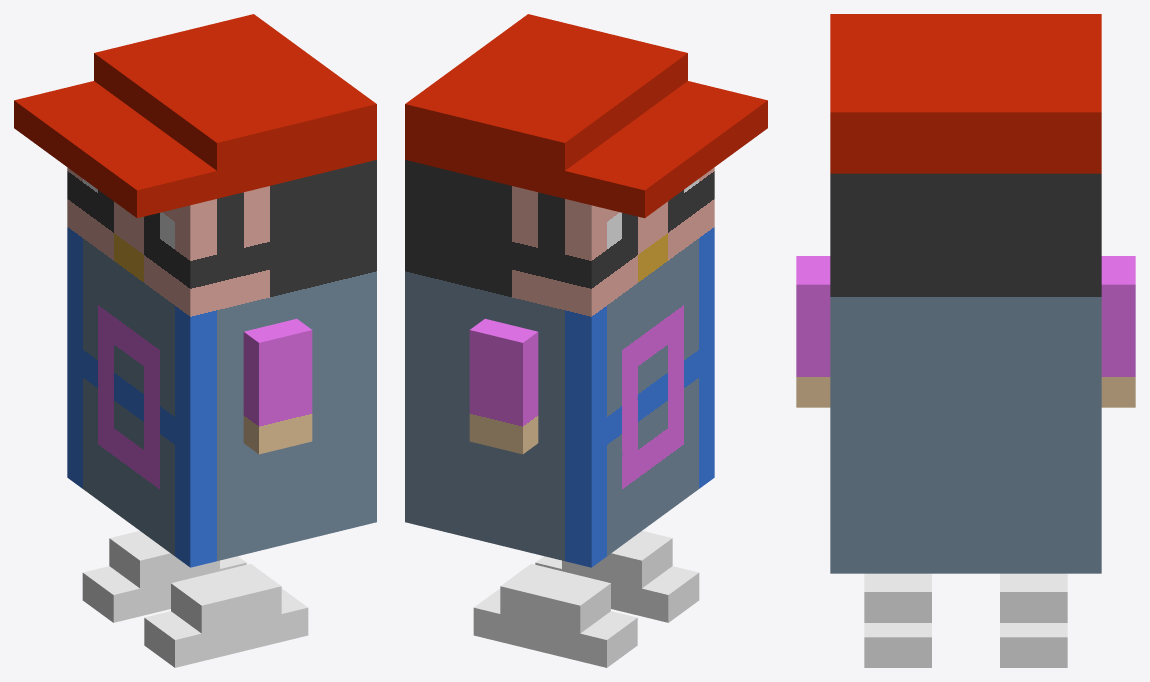
Rendered from Player_23.fbx.
3 renders of one model, left to right at view 1: azimuth 30°, elevation 25°; view 2: azimuth 150°, elevation 25°; view 3: azimuth 270°, elevation 25°, orthographic. The views are drawn at different scales.
Parts seen in each view (by area): view 1: Main, LeftFoot, LeftHand, RightFoot; view 2: Main, RightFoot, RightHand, LeftFoot; view 3: Main, LeftFoot, RightFoot, RightHand, LeftHand.
Boxes of the visible parts, x1,y1,x2,y2 form: Main: (14, 14, 376, 567); LeftFoot: (144, 563, 308, 667); LeftHand: (243, 318, 312, 454); RightFoot: (82, 531, 246, 622); Main: (405, 14, 767, 567); RightFoot: (473, 563, 637, 667); RightHand: (469, 318, 538, 454); LeftFoot: (535, 531, 699, 622); Main: (830, 14, 1101, 573); LeftFoot: (864, 573, 931, 667); RightFoot: (1000, 573, 1067, 667); RightHand: (1101, 256, 1135, 407); LeftHand: (796, 256, 830, 407).
Bounding box in the file's own units: 9 × 19 × 10.
Materials: 1 (1 with a texture image).
